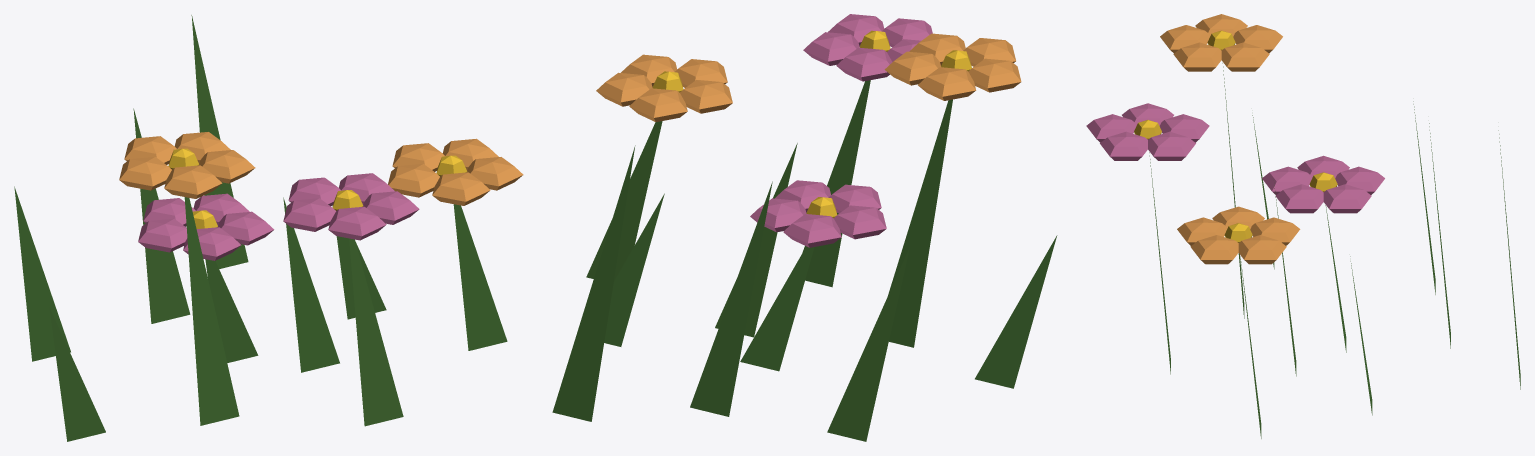
The model's file is FlowerPatch.obj.
The picture shows the model from 3 angles, left to right: view 1: azimuth 30°, elevation 25°; view 2: azimuth 150°, elevation 25°; view 3: azimuth 270°, elevation 25°; orthographic projection. The views are drawn at different scales.
Parts seen in each view (by area): view 1: FlowerPatch; view 2: FlowerPatch; view 3: FlowerPatch.
Part boxes in pixels (left/top/right/bottom): FlowerPatch: left=14, top=15, right=523, bottom=441; FlowerPatch: left=552, top=14, right=1057, bottom=441; FlowerPatch: left=1086, top=14, right=1520, bottom=438.
Bounding box in the file's own units: 0.8309 × 0.5038 × 0.7609.
